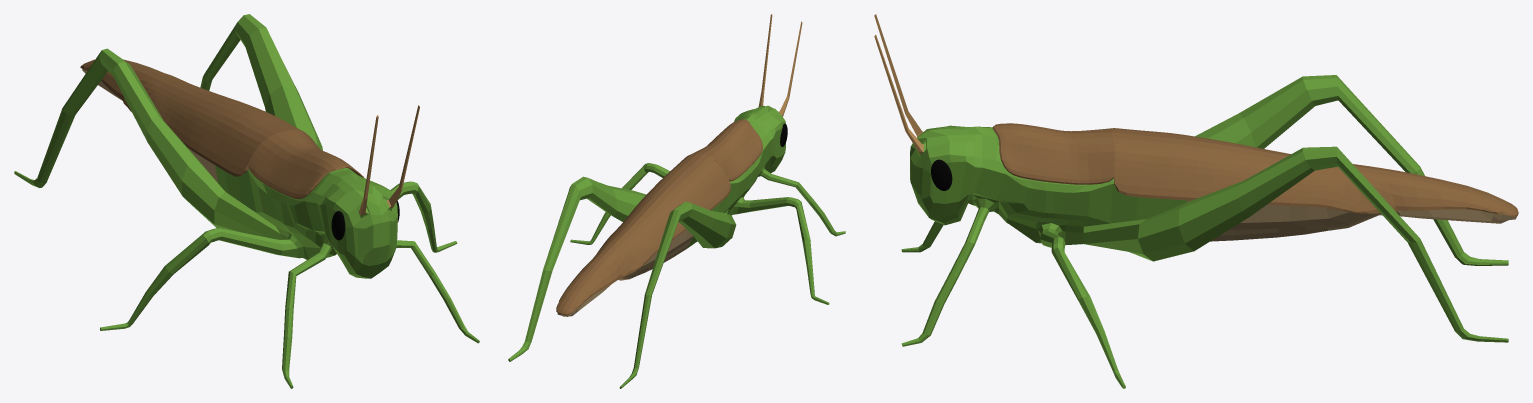
Rendered from batta.glb.
3 renders of one model, left to right at view 1: azimuth 30°, elevation 25°; view 2: azimuth 150°, elevation 25°; view 3: azimuth 270°, elevation 25°, orthographic. The views are drawn at different scales.
Parts seen in each view (by area): view 1: 立方体, 立方体.001, 立方体.002; view 2: 立方体, 立方体.001, 立方体.002; view 3: 立方体, 立方体.001, 立方体.002.
Boxes of the visible parts, box(x1,y1,x2,y2) form: 立方体: box(14, 14, 479, 388); 立方体.001: box(80, 59, 312, 176); 立方体.002: box(248, 129, 364, 199); 立方体: box(508, 14, 845, 388); 立方体.001: box(556, 153, 730, 315); 立方体.002: box(685, 119, 762, 181); 立方体: box(874, 14, 1517, 388); 立方体.001: box(1111, 128, 1518, 216); 立方体.002: box(992, 123, 1115, 184).
Size of the model in its own units: 2.07 by 1.5 by 3.13.
